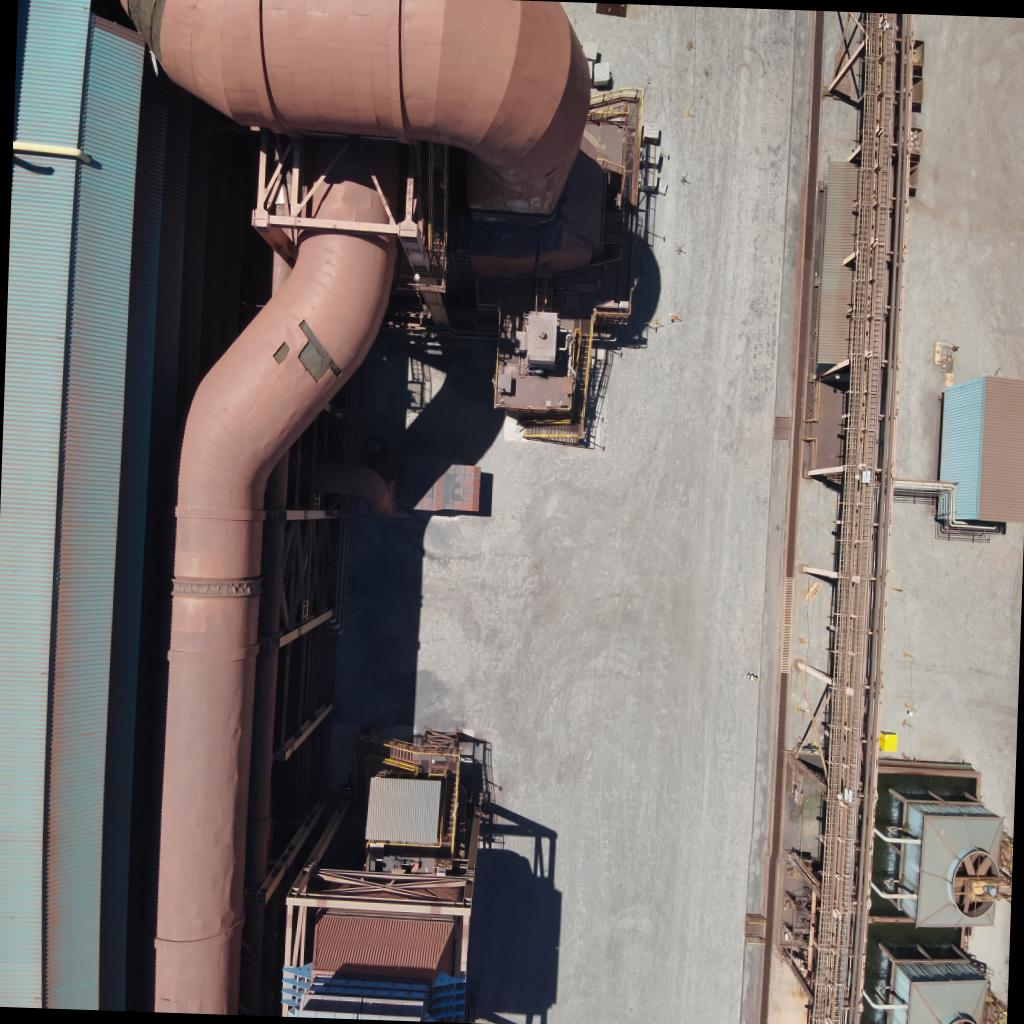Failures: (291, 319, 342, 379), (126, 0, 171, 59), (270, 338, 290, 370)
